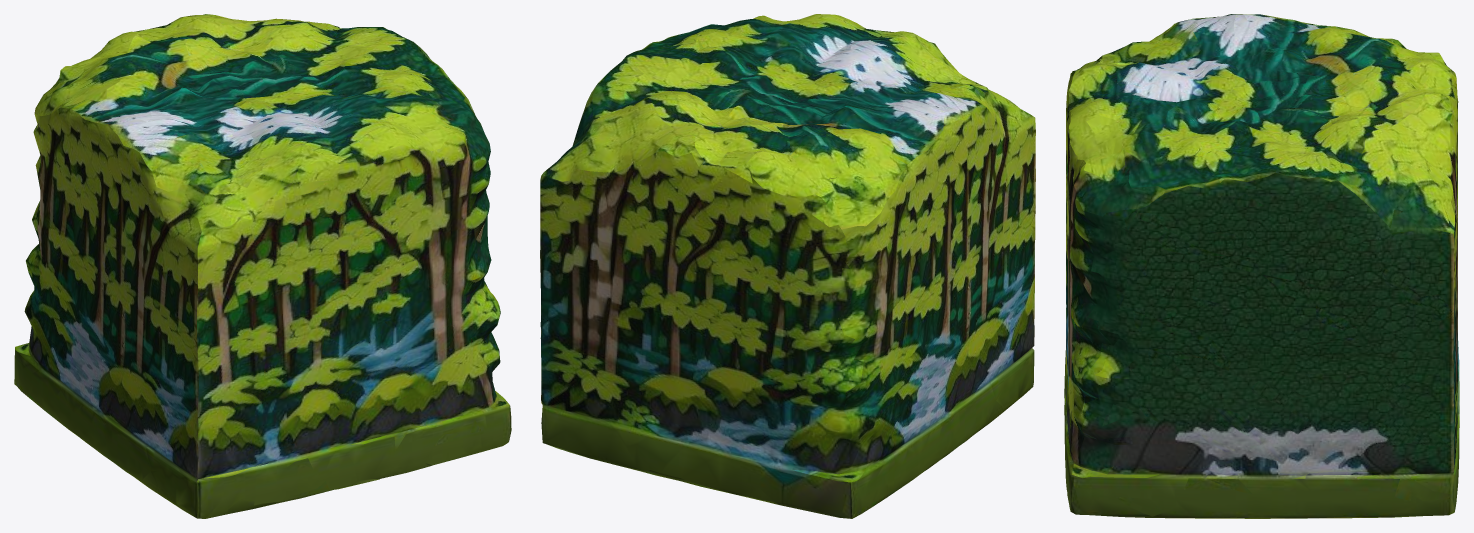
File: oirase.glb
The picture shows the model from 3 angles, left to right: view 1: azimuth 30°, elevation 25°; view 2: azimuth 150°, elevation 25°; view 3: azimuth 270°, elevation 25°; orthographic projection. The views are drawn at different scales.
Parts seen in each view (by area): view 1: logan-textured.obj; view 2: logan-textured.obj; view 3: logan-textured.obj.
Part boxes in pixels (box(x1,y1,x2,y2)): logan-textured.obj: box(14, 14, 511, 518); logan-textured.obj: box(540, 14, 1035, 518); logan-textured.obj: box(1064, 14, 1459, 518).
Size of the model in its own units: 0.9831 by 1 by 0.9984.
1 material, 1 textured.
